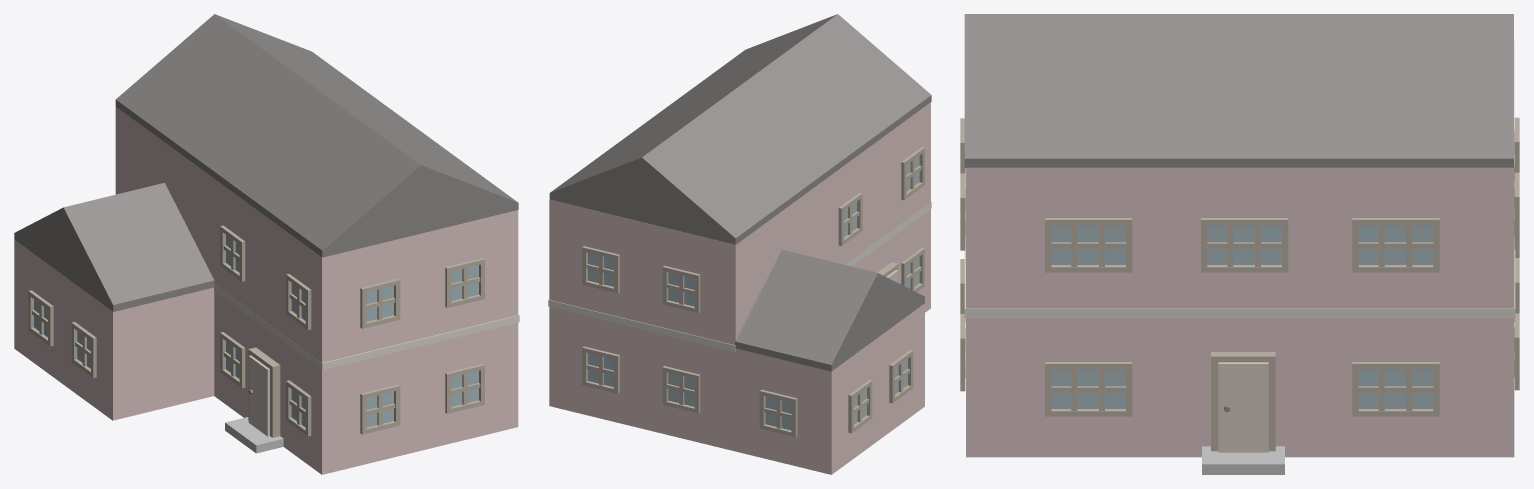
File: house04.fbx
3 renders of one model, left to right at view 1: azimuth 30°, elevation 25°; view 2: azimuth 150°, elevation 25°; view 3: azimuth 270°, elevation 25°, orthographic. The views are drawn at different scales.
Visible parts, largest first — view 1: roof07, house04, house04_upper, roof08, door5 (×10), pPlane1 (×4), edge, doorCentre, doorFrame, step; view 2: roof07, house04, house04_upper, roof08, door5 (×10), pPlane1 (×5), edge; view 3: roof07, house04_upper, house04, pPlane2 (×5), door9 (×5), edge, door17 (×5), doorCentre, doorFrame, step.
Part boxes in pixels (x1,y1,x2,y2): roof07: (115,14,518,257); house04: (14,240,518,474); house04_upper: (115,106,518,362); roof08: (14,183,214,311); door5 (×10): (28,225,484,436); pPlane1 (×4): (366,265,478,427); edge: (214,284,519,370); doorCentre: (248,355,269,436); doorFrame: (248,347,280,437); step: (225,417,283,453); roof07: (549,14,931,244); house04: (549,209,930,474); house04_upper: (549,102,930,344); roof08: (735,249,924,371); door5 (×10): (582,147,924,437); pPlane1 (×5): (588,252,791,430); edge: (548,202,931,351); roof07: (964,14,1513,167); house04_upper: (966,40,1514,308); house04: (966,318,1514,457); pPlane2 (×5): (1051,225,1433,408); door9 (×5): (1045,218,1439,416); edge: (964,181,1515,318); door17 (×5): (1051,225,1433,410); doorCentre: (1218,362,1268,452); doorFrame: (1211,352,1275,451); step: (1202,446,1284,474).
Size of the model in its own units: 6.68 by 5.55 by 7.41.
